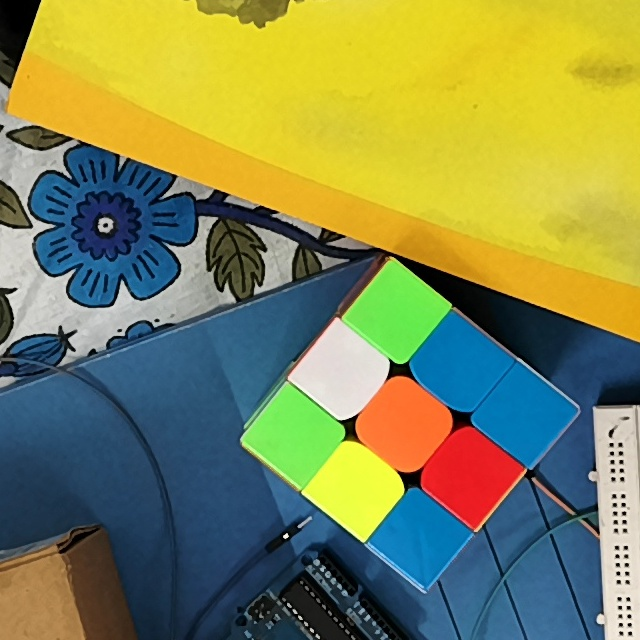tile: (432, 336, 487, 392), (377, 397, 431, 454), (442, 447, 498, 501), (497, 388, 552, 441), (266, 410, 321, 463), (317, 344, 367, 398), (371, 286, 422, 338), (394, 513, 447, 563), (331, 462, 382, 513)
